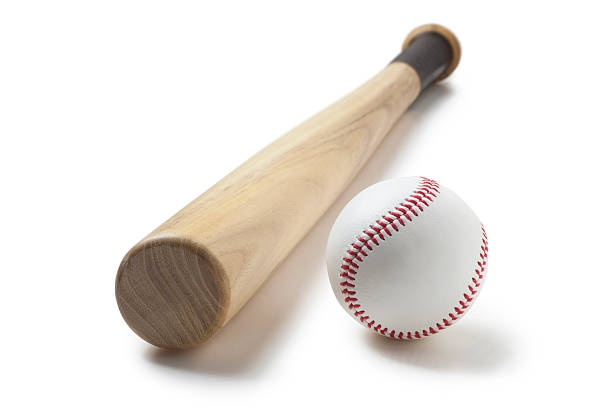bita: (117, 23, 455, 351)
